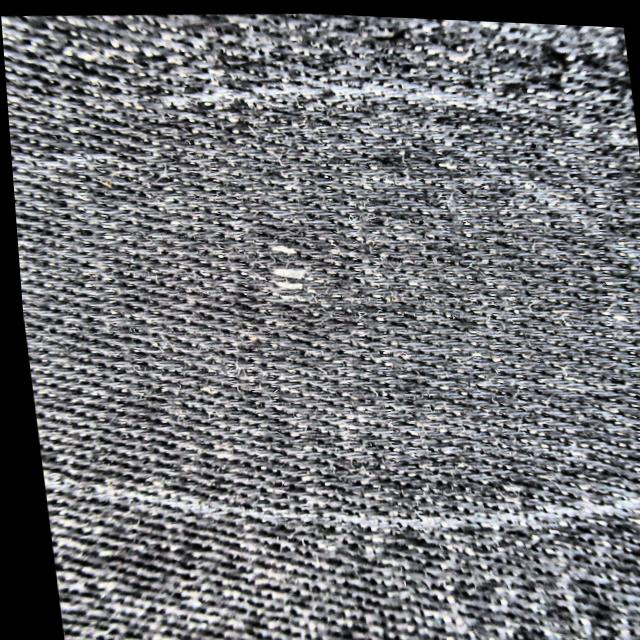Hole: (262, 236, 301, 305)
